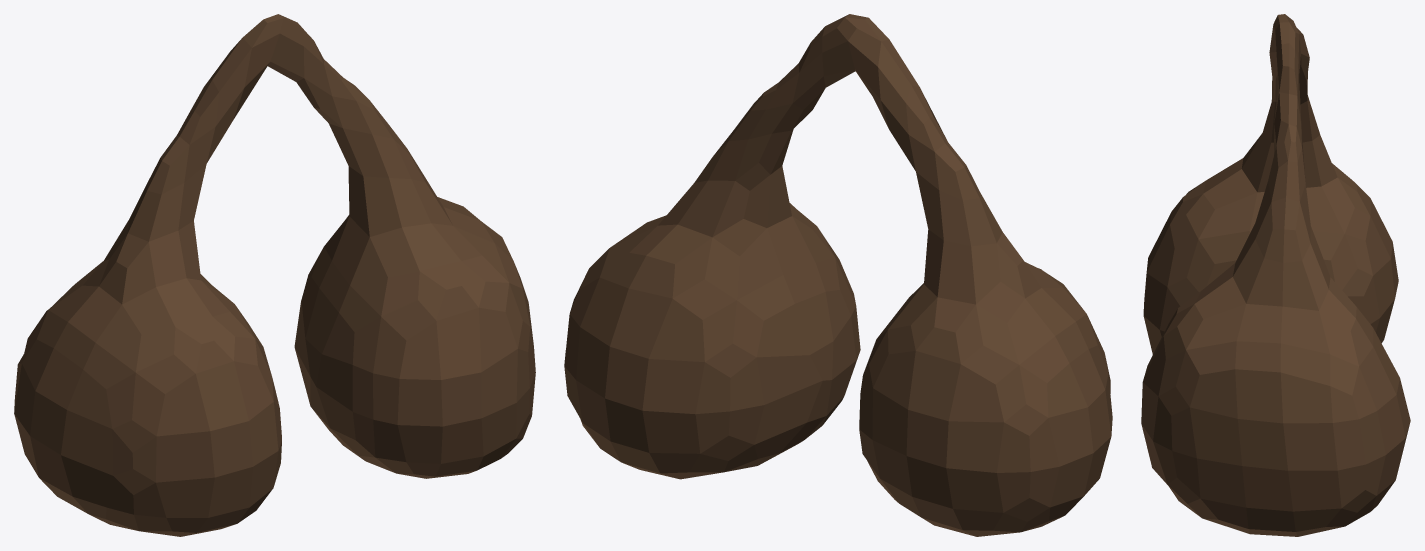
Rendered from C_Juice.fbx.
The picture shows the model from 3 angles, left to right: view 1: azimuth 30°, elevation 25°; view 2: azimuth 150°, elevation 25°; view 3: azimuth 270°, elevation 25°; orthographic projection. The views are drawn at different scales.
Visible parts, largest first — view 1: C_Juice; view 2: C_Juice; view 3: C_Juice.
Part boxes in pixels (box(x1,y1,x2,y2)): C_Juice: box(14, 14, 535, 536); C_Juice: box(564, 14, 1112, 536); C_Juice: box(1141, 14, 1410, 536).
Size of the model in its own units: 204 by 186 by 105.
